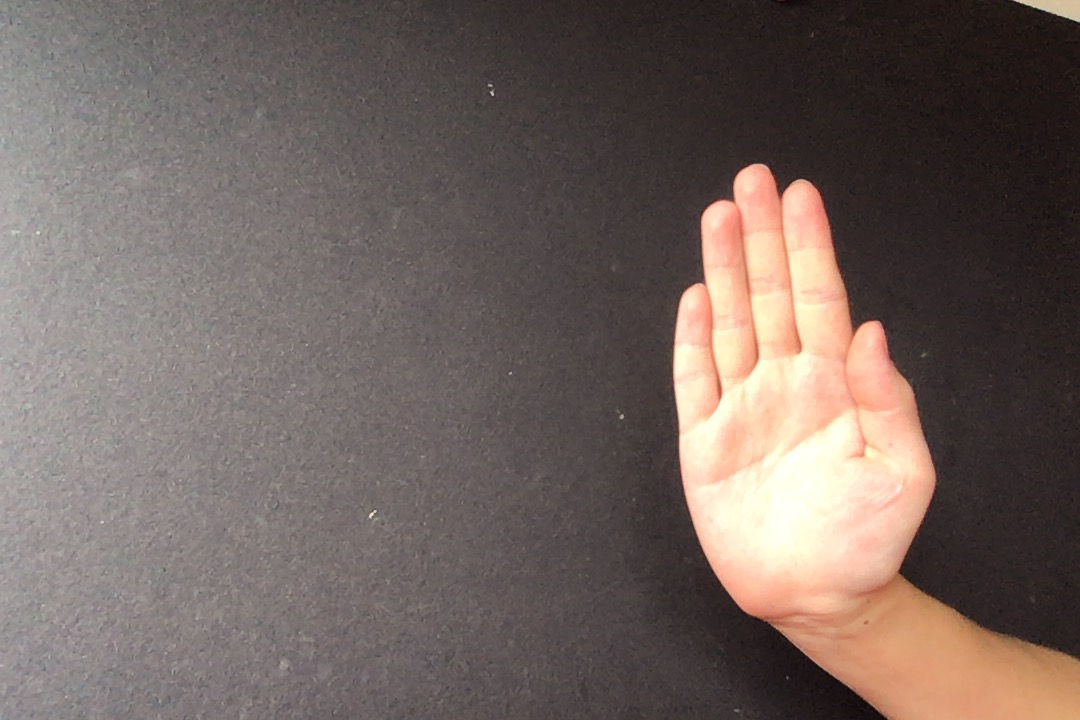palmhand: (657, 153, 942, 630)
